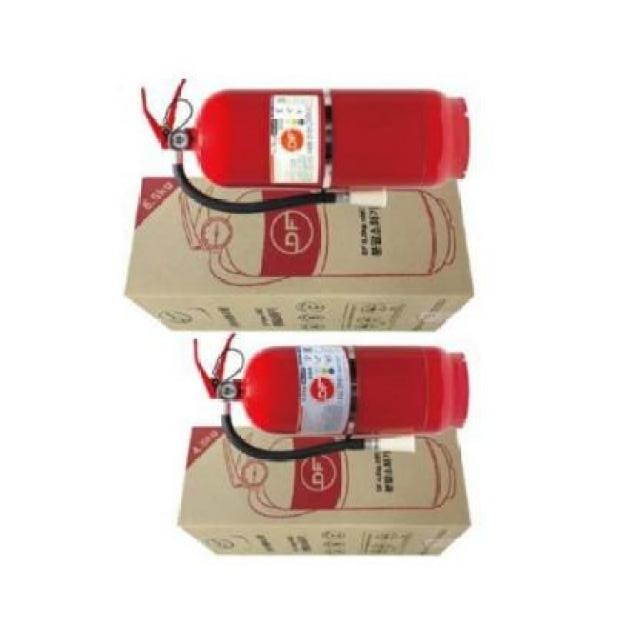fire extinguisher: (139, 77, 470, 215), (192, 332, 471, 463)
